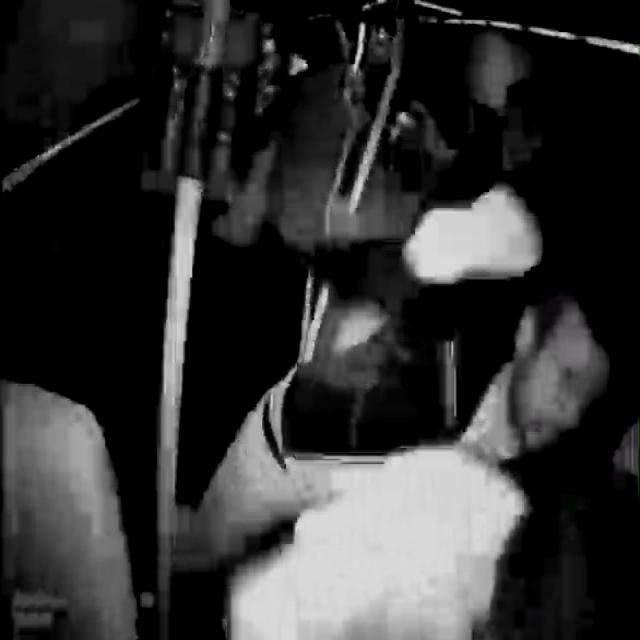fight: (301, 285, 621, 640)
